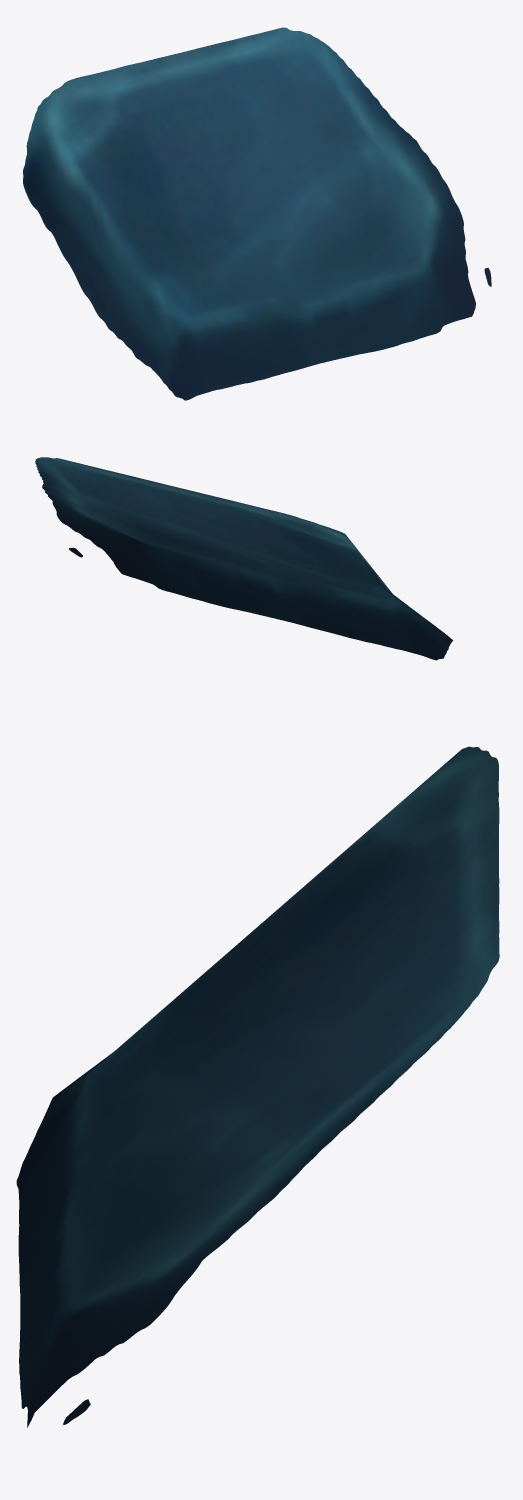
Rendered from Slab.FBX.
3 views of the same model, one above another, from view 1: azimuth 30°, elevation 25°; view 2: azimuth 150°, elevation 25°; view 3: azimuth 270°, elevation 25° (orthographic). The views are drawn at different scales.
Visible parts, largest first — view 1: Slab; view 2: Slab; view 3: Slab.
Part boxes in pixels (x1,y1,x2,y2): Slab: [23, 27, 491, 400]; Slab: [35, 457, 453, 660]; Slab: [16, 746, 499, 1427].
Bounding box in the file's own units: 115 × 65.59 × 64.65.
